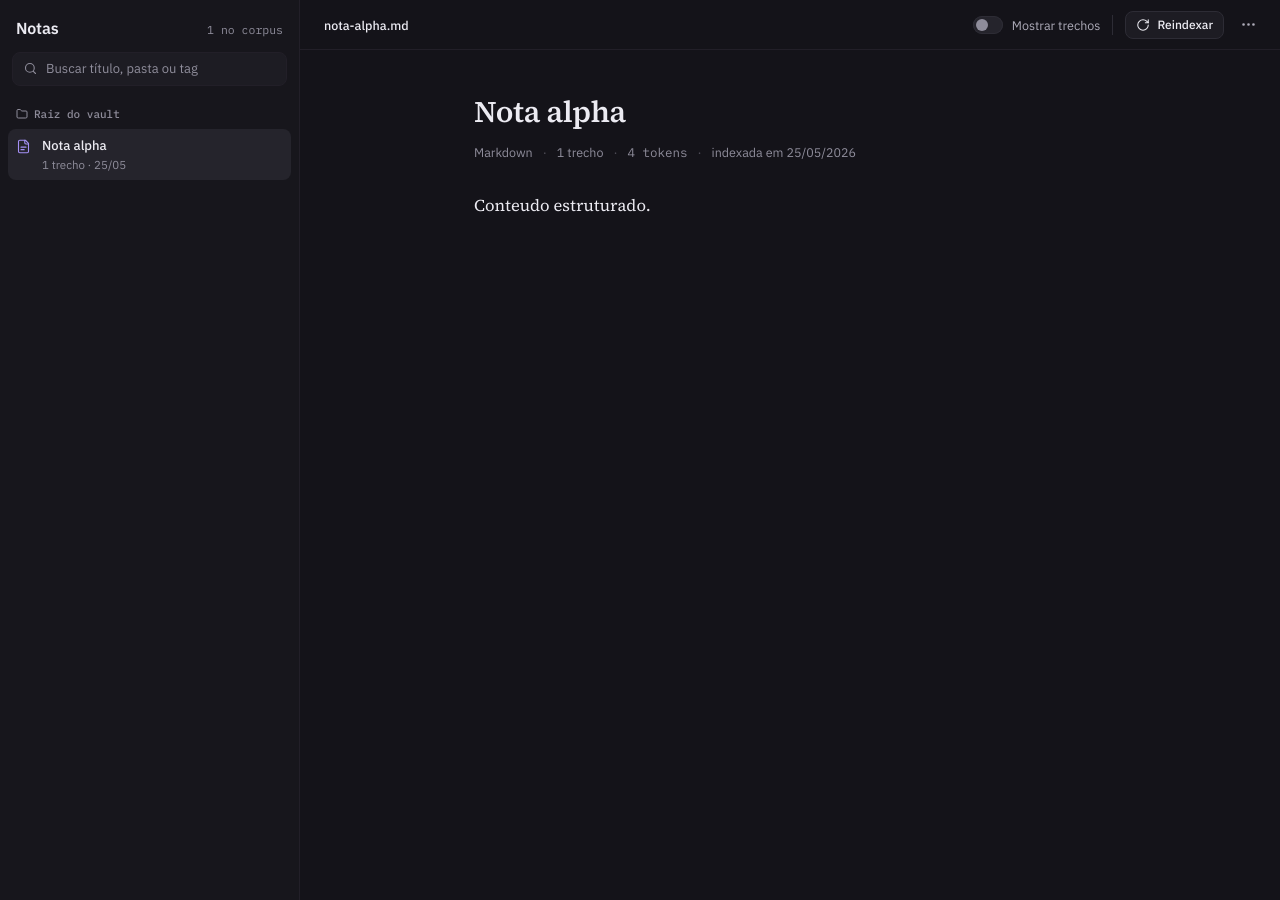
Test: NotesPanel › cancelar o popover não apaga nada
This screenshot has width=1280, height=900.
Expected: the text "Conteudo estruturado." is shown, x1=474 y1=194 x2=651 y2=217
What coordinates should you click on to do the following:
click the button named "Mais ações"
I would click on:
 (1248, 24)
Its box is x1=1232 y1=8 x2=1264 y2=40.
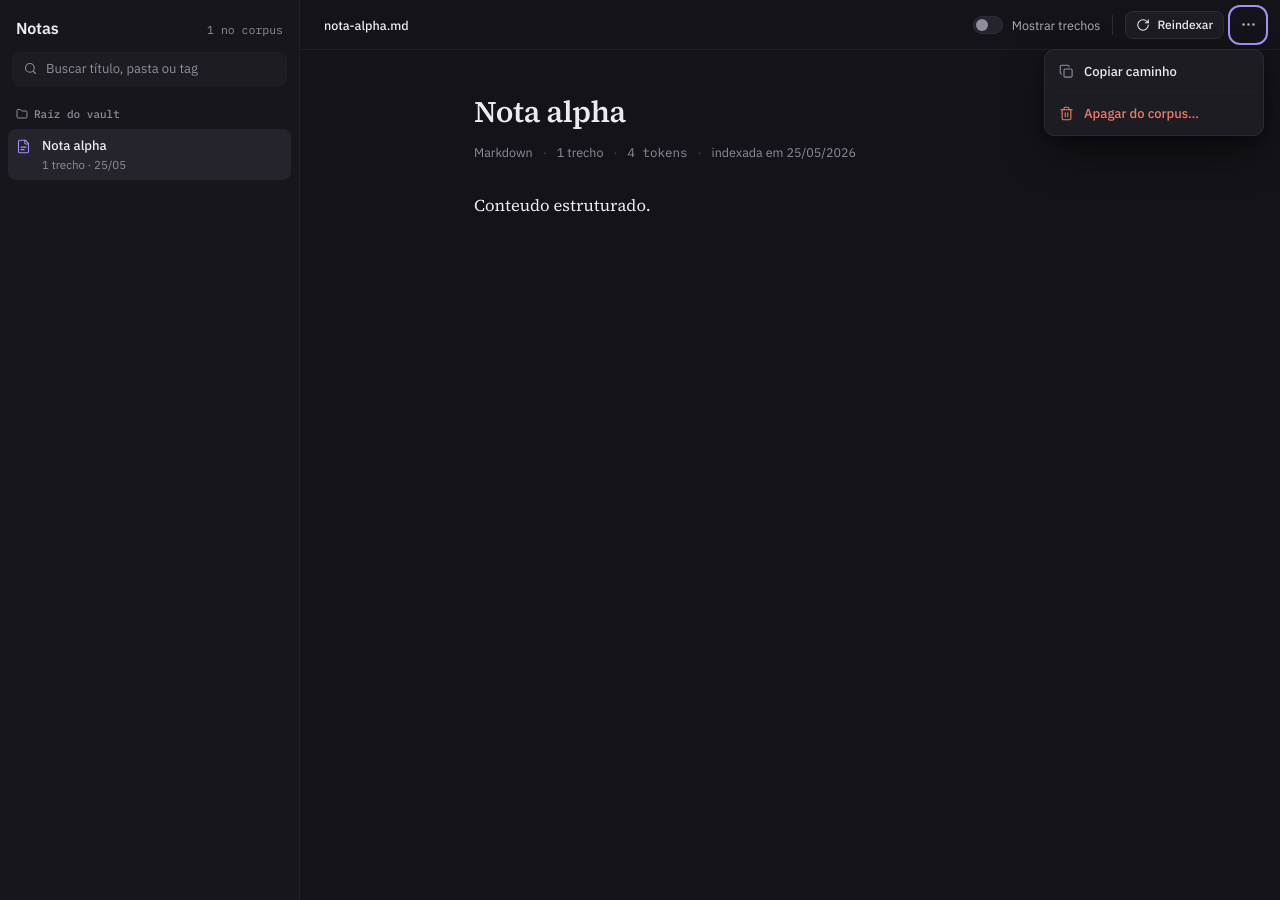
What coordinates should you click on to do the following:
click the button "Apagar do corpus…"
I would click on:
 (1154, 113)
Its box is x1=1050 y1=96 x2=1258 y2=130.
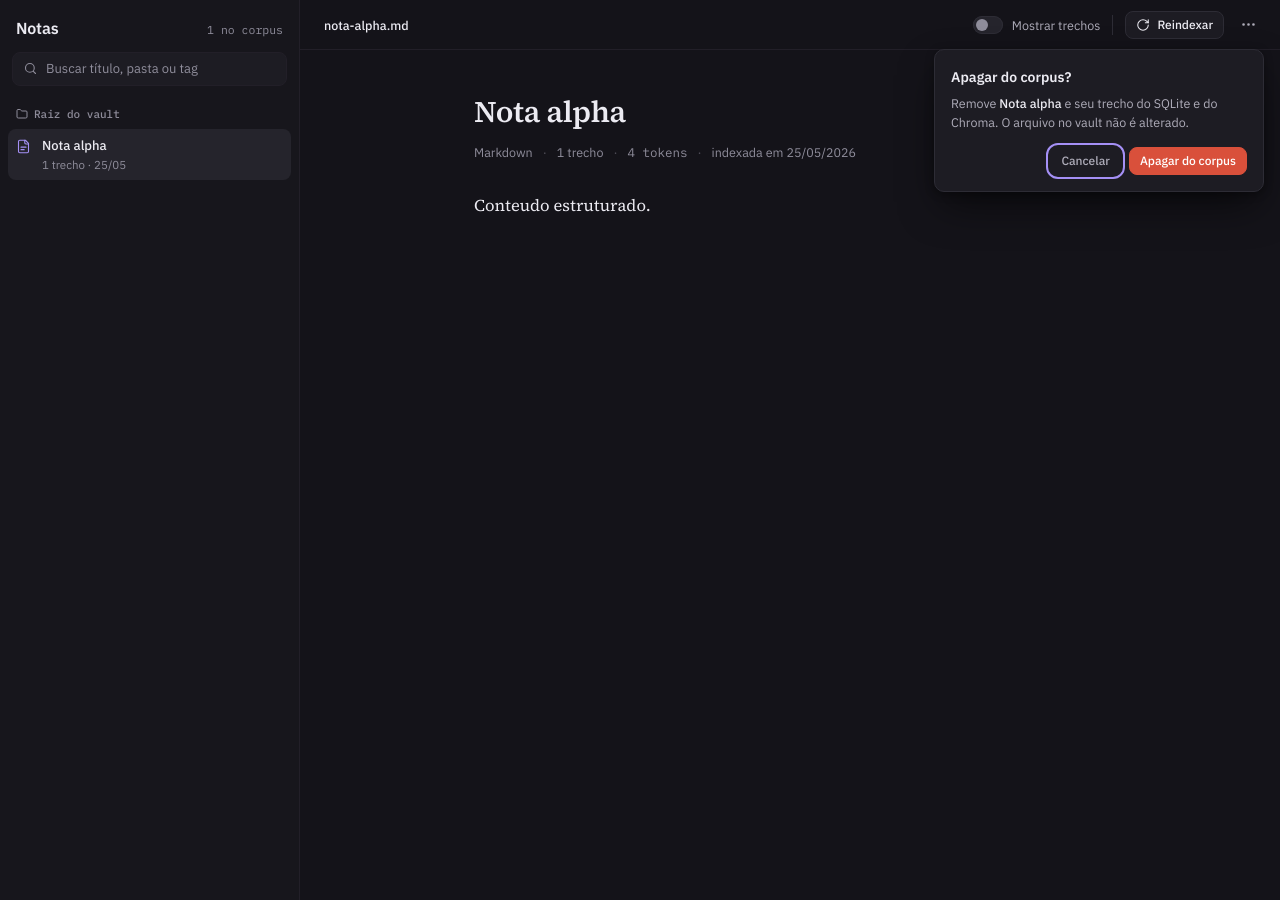
What coordinates should you click on to do the following:
click the button "Cancelar"
I would click on:
 (1086, 161)
Its box is x1=1050 y1=147 x2=1121 y2=175.
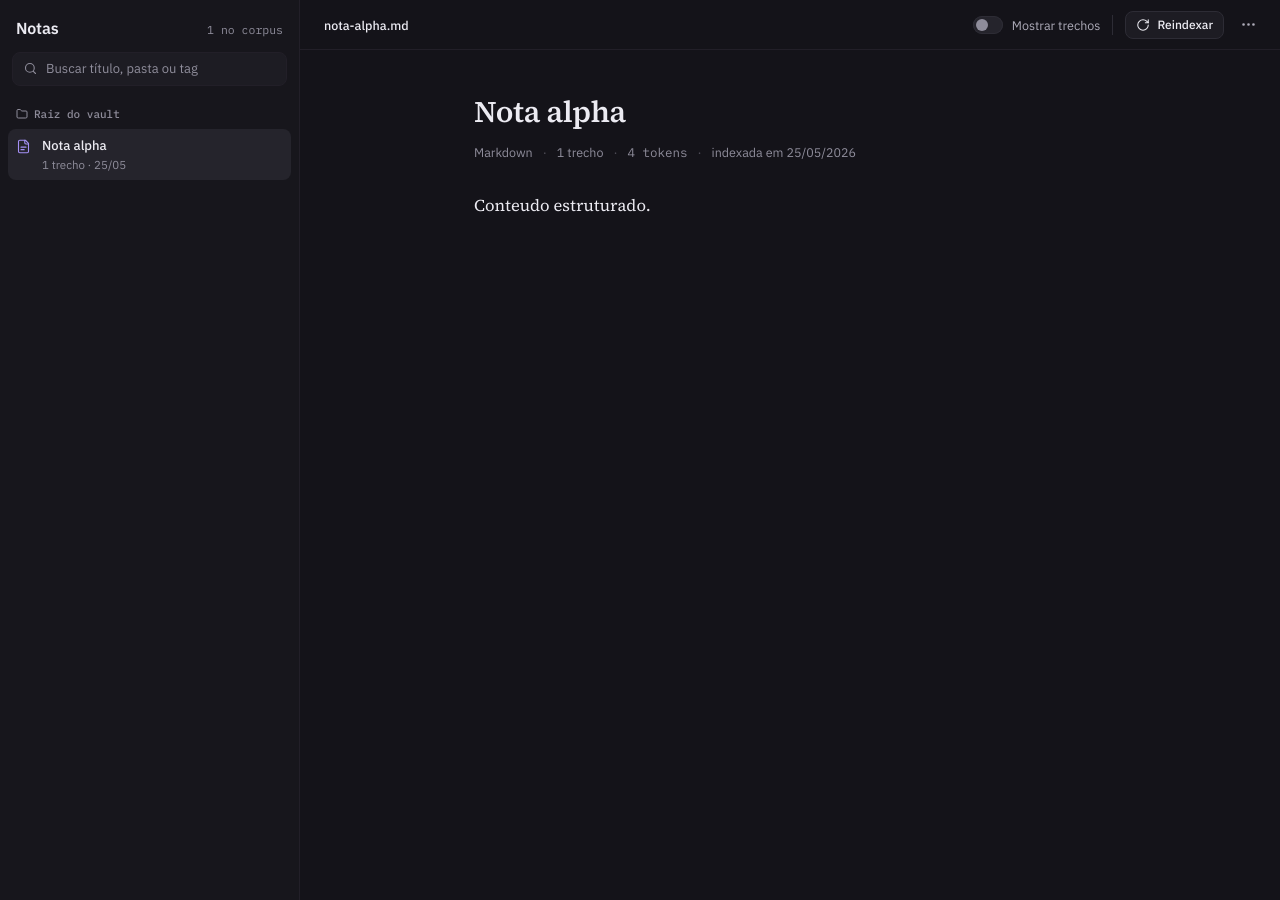
Expected: the dialog is gone
